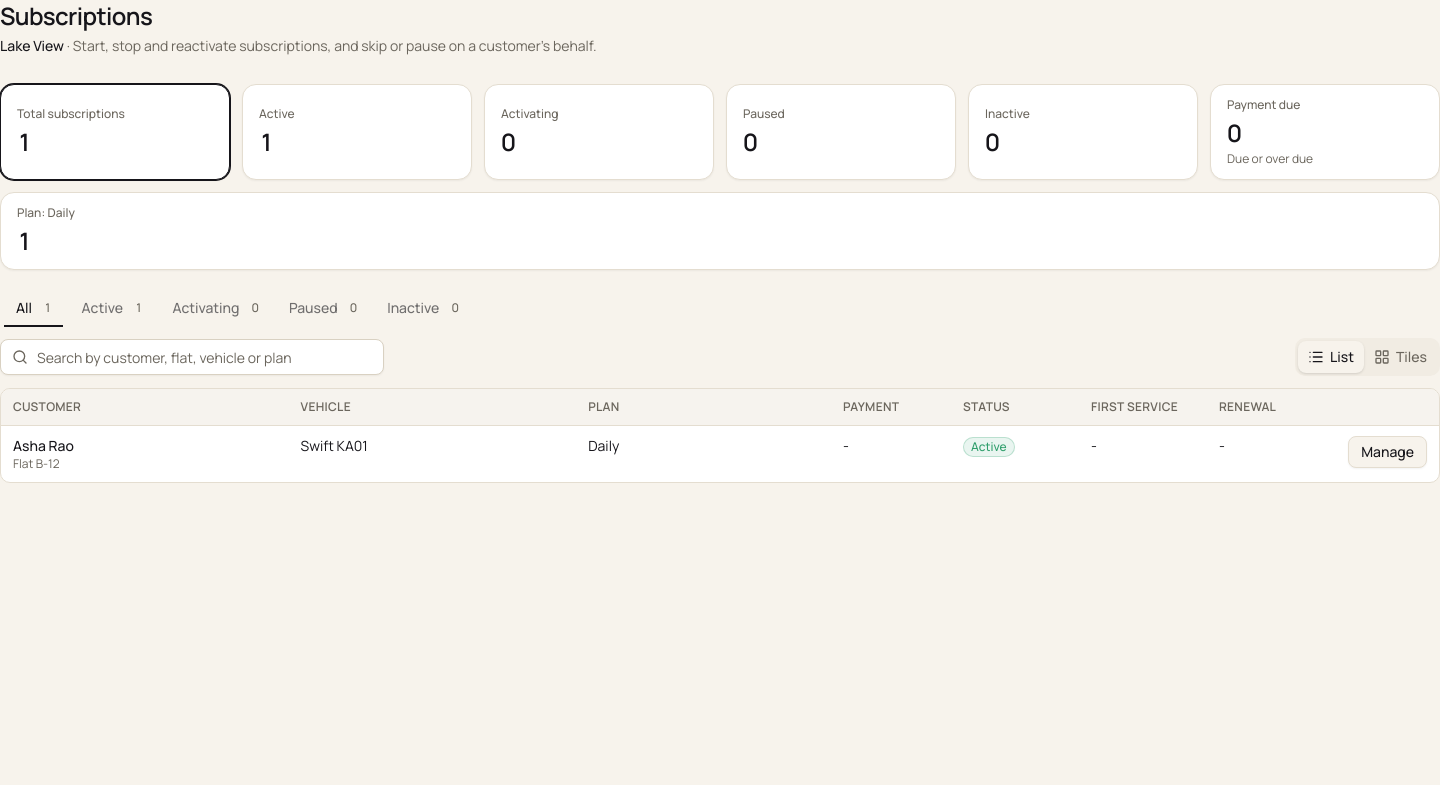
Test: subscriptions › requires a reason for Inactive and shows the API error
The width and height of the screenshot is (1440, 785).
Click the button "Manage" at coordinates (1388, 452), box 1348,436 -> 1427,468
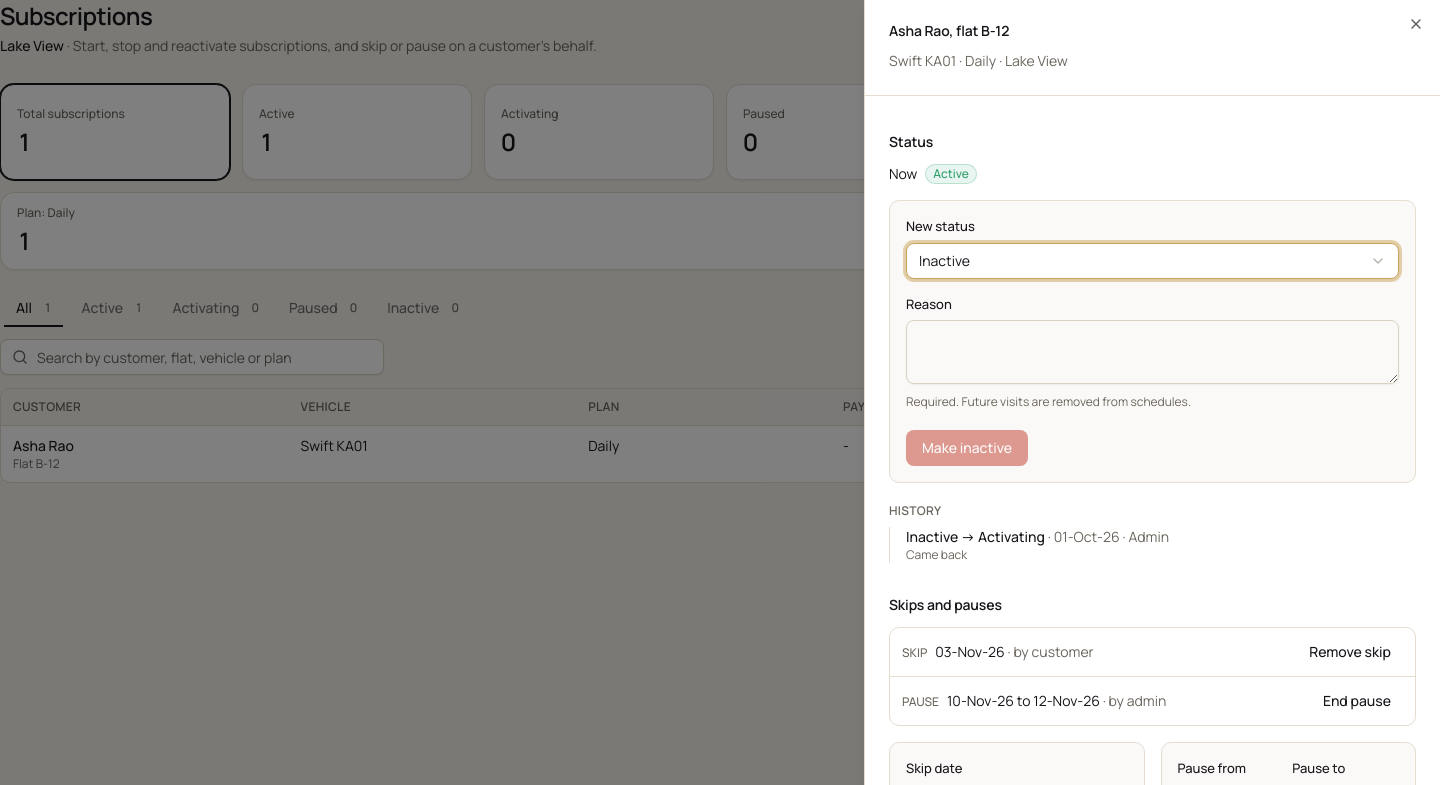
Expected: the button "Make inactive" is disabled, 906,430 -> 1028,466
Type "Moved away" into the text box labelled "Reason" at coordinates (1152, 352), box 906,320 -> 1399,384
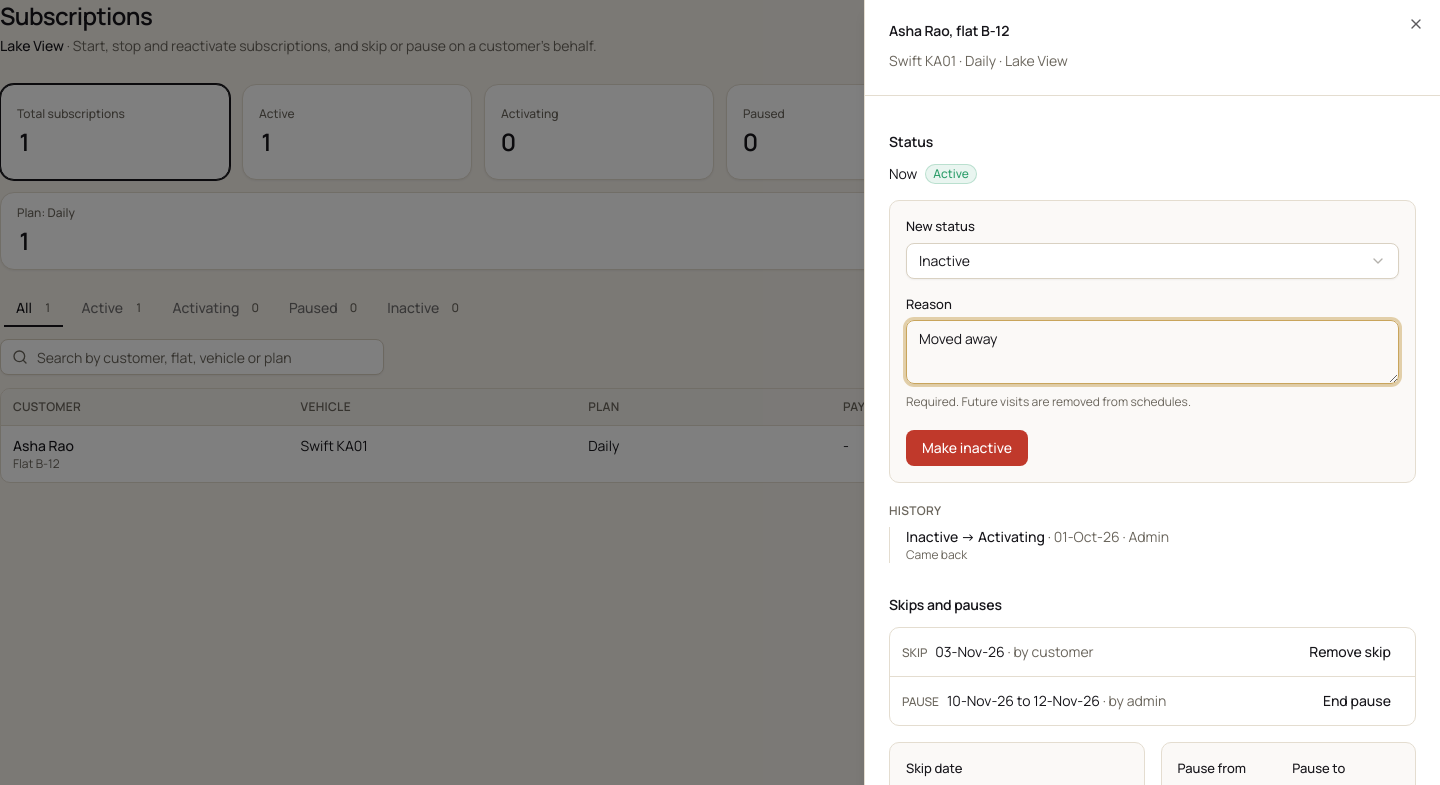
Click the button "Make inactive" at coordinates (967, 448), box 906,430 -> 1028,466
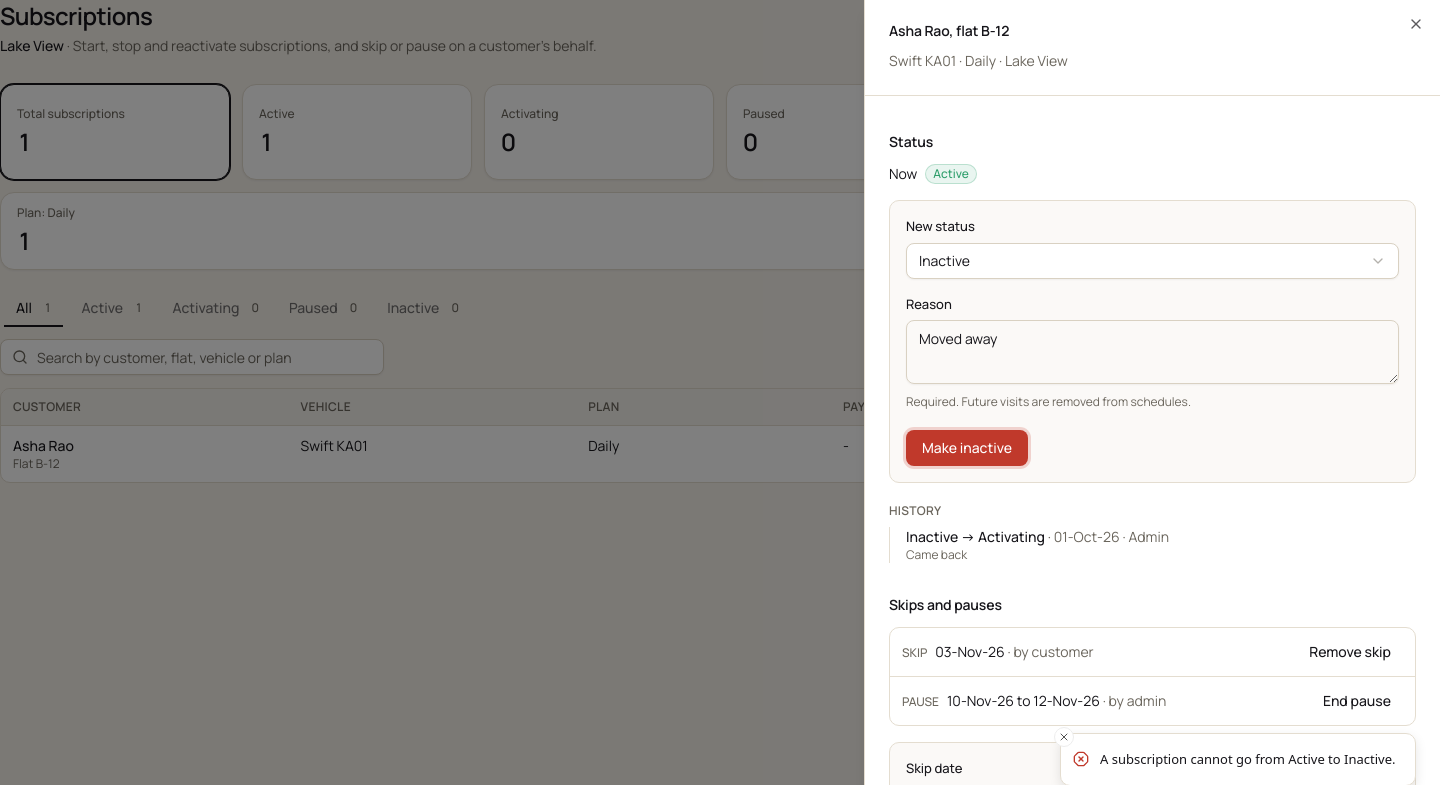
Expected: the text "A subscription cannot go from Active to Inactive." is shown, 1100,750 -> 1396,769
